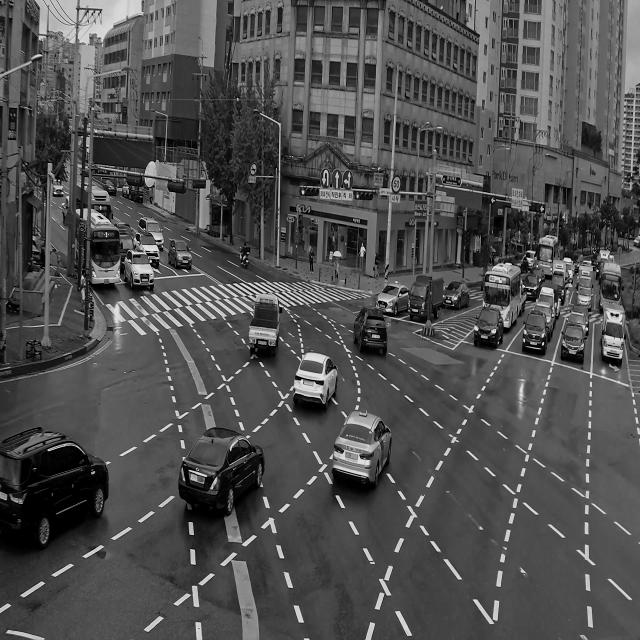Bus: (64, 194, 124, 298), (472, 250, 522, 338), (537, 229, 562, 287)
Car: (0, 399, 119, 575), (166, 408, 271, 525), (328, 396, 394, 497), (289, 336, 343, 420), (344, 296, 390, 364), (509, 302, 554, 364), (123, 243, 158, 298), (470, 301, 506, 353), (561, 320, 592, 375), (378, 272, 410, 321), (442, 270, 472, 319), (166, 226, 193, 277), (136, 214, 165, 253), (523, 310, 547, 356), (133, 230, 162, 268), (538, 285, 559, 320), (533, 300, 553, 336), (572, 300, 591, 334), (520, 273, 540, 298), (568, 311, 586, 338), (576, 286, 593, 312), (509, 251, 529, 273), (525, 246, 538, 270), (50, 175, 64, 197), (563, 255, 574, 282), (571, 248, 584, 270), (120, 176, 131, 200), (104, 177, 117, 197), (594, 262, 607, 282), (591, 251, 601, 268), (608, 252, 618, 264), (633, 233, 640, 249), (582, 259, 594, 267)
Motorcycle: (233, 237, 254, 271)
Truck: (236, 280, 287, 366), (404, 265, 448, 330), (600, 296, 631, 382), (114, 223, 134, 268), (578, 264, 594, 296), (551, 272, 566, 305), (518, 280, 530, 315), (554, 256, 568, 286), (128, 182, 146, 205), (60, 190, 72, 221), (599, 249, 609, 263)
